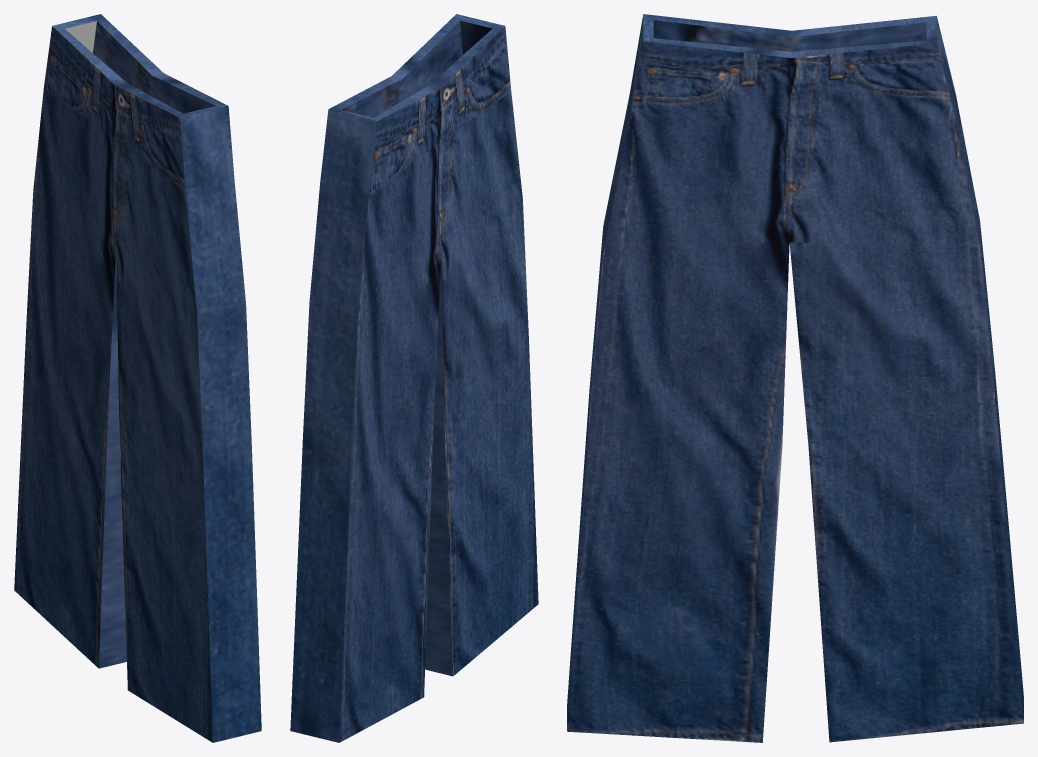
Rendered from celana_3 .glb.
3 renders of one model, left to right at view 1: azimuth 30°, elevation 25°; view 2: azimuth 150°, elevation 25°; view 3: azimuth 270°, elevation 25°, orthographic. The views are drawn at different scales.
Parts seen in each view (by area): view 1: Cube.007; view 2: Cube.007; view 3: Cube.007.
Boxes of the visible parts, <box> form: Cube.007: <box>14,14,261,742</box>; Cube.007: <box>290,14,538,742</box>; Cube.007: <box>567,14,1023,742</box>.
Bounding box in the file's own units: 0.1889 × 2.26 × 1.33.
Materials: 1 (1 with a texture image).
